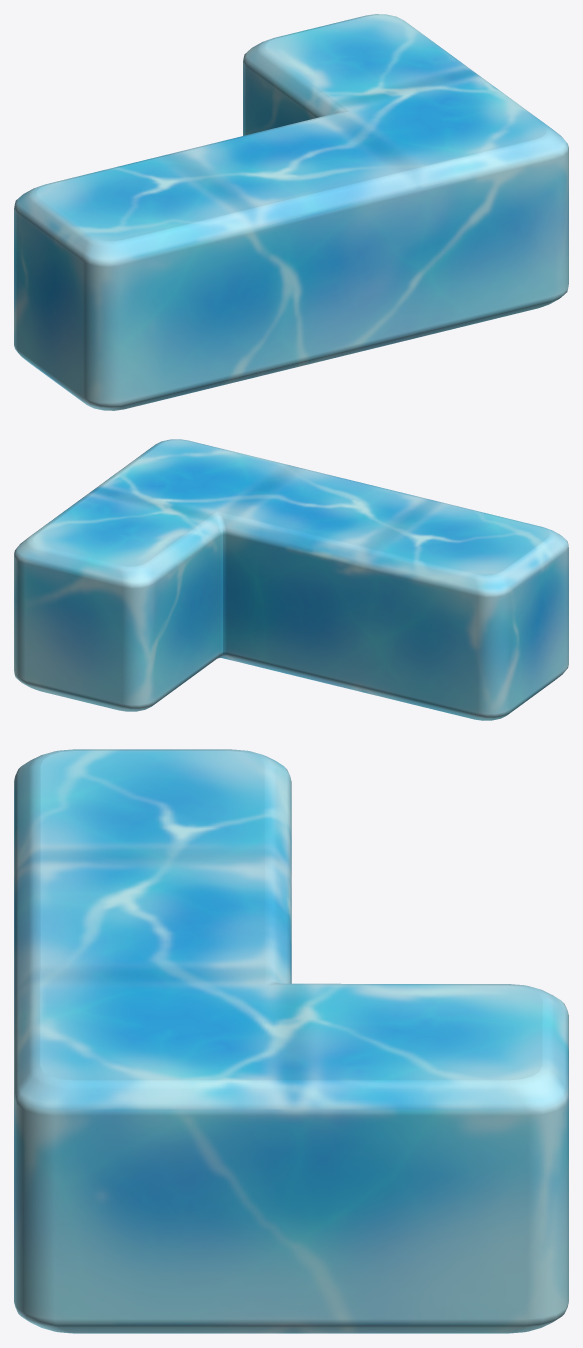
File: Ice_Block_06.fbx
3 views of the same model, one above another, from view 1: azimuth 30°, elevation 25°; view 2: azimuth 150°, elevation 25°; view 3: azimuth 270°, elevation 25° (orthographic). The views are drawn at different scales.
Parts seen in each view (by area): view 1: Ice_Block_06; view 2: Ice_Block_06; view 3: Ice_Block_06.
Part boxes in pixels (x1,y1,x2,y2): Ice_Block_06: [14, 14, 568, 410]; Ice_Block_06: [14, 439, 568, 720]; Ice_Block_06: [14, 749, 568, 1333].
Bounding box in the file's own units: 3 × 1 × 2.
1 material, 1 textured.
